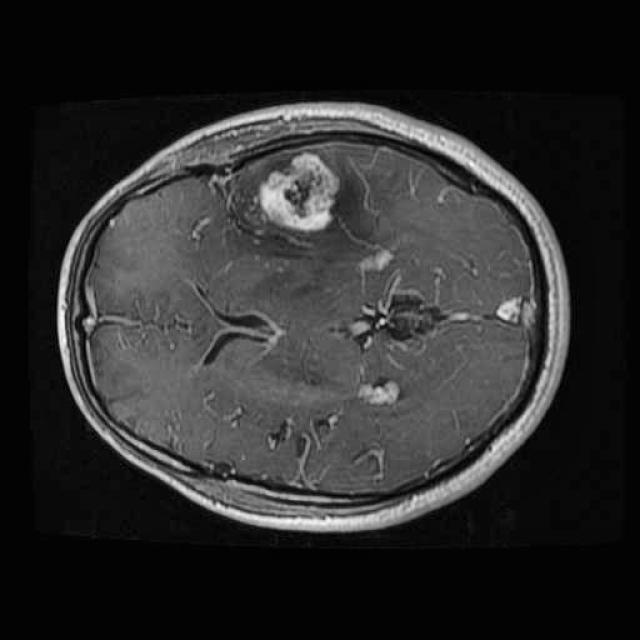Non-Tumor: (248, 141, 344, 246)
